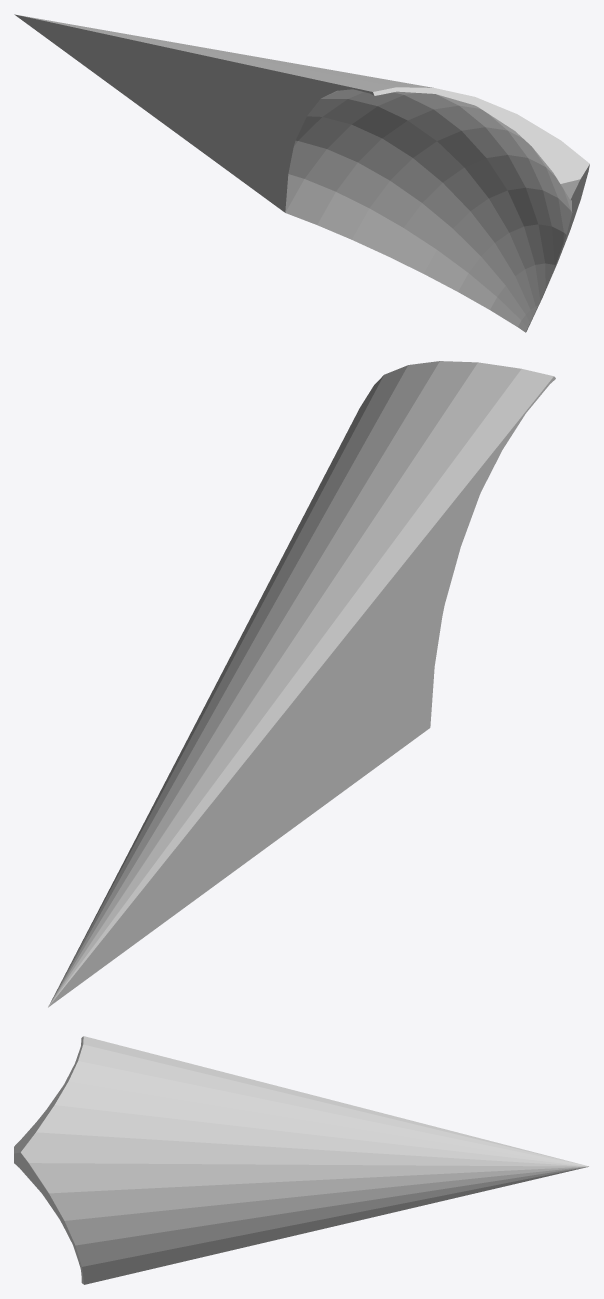
Rendered from BossConeRight.obj.
3 views of the same model, one above another, from view 1: azimuth 30°, elevation 25°; view 2: azimuth 150°, elevation 25°; view 3: azimuth 270°, elevation 25° (orthographic). The views are drawn at different scales.
Visible parts, largest first — view 1: 圓錐體.002; view 2: 圓錐體.002; view 3: 圓錐體.002.
Boxes of the visible parts, x1,y1,x2,y2 form: 圓錐體.002: (14,14,589,332); 圓錐體.002: (48,361,555,1007); 圓錐體.002: (14,1036,589,1284).
Bounding box in the file's own units: 1.82 × 2.63 × 7.
Materials: 1 (1 with a texture image).
